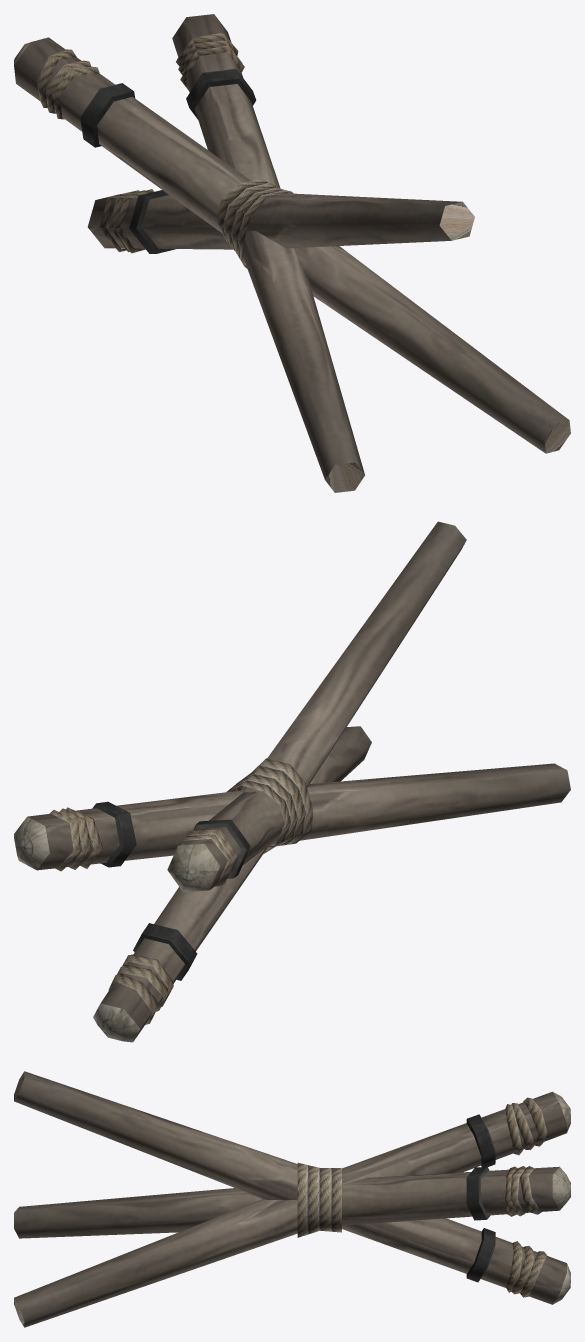
The model's file is Torch_B.fbx.
3 renders of one model, top to bottom at view 1: azimuth 30°, elevation 25°; view 2: azimuth 150°, elevation 25°; view 3: azimuth 270°, elevation 25°, orthographic. The views are drawn at different scales.
Parts seen in each view (by area): view 1: Torch_B; view 2: Torch_B; view 3: Torch_B.
Part boxes in pixels (bbox=[...]): Torch_B: bbox=[14, 14, 570, 492]; Torch_B: bbox=[14, 521, 570, 1042]; Torch_B: bbox=[14, 1071, 570, 1327].
Bounding box in the file's own units: 0.864 × 0.9667 × 2.16.
